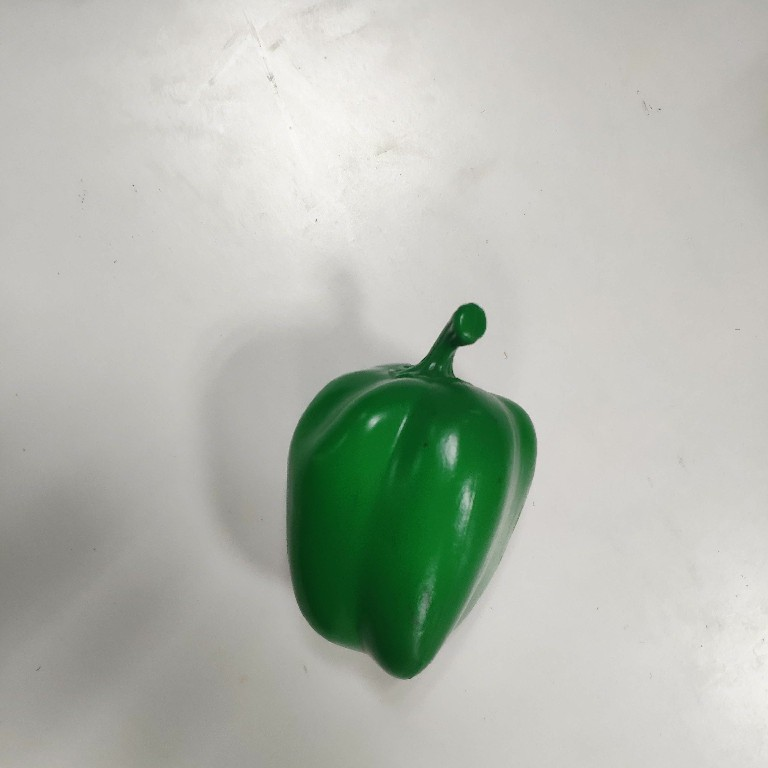fruit_pepper: (278, 296, 543, 686)
